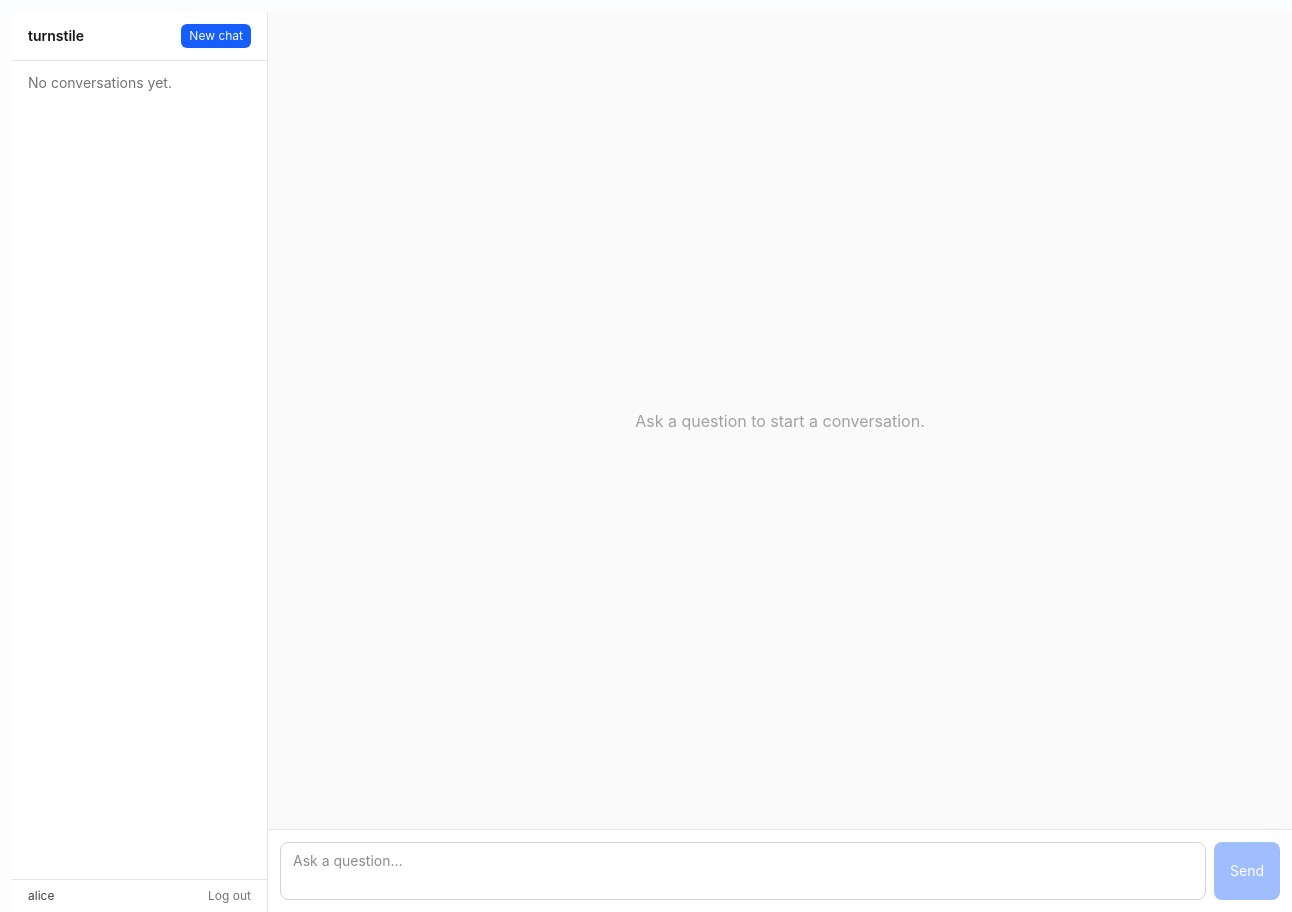
back from the ACS: token captured, principal shown, logout drops it
Check: the text "alice" is shown, box [28,888,54,904]
What coordinates should you click on to do the following:
click the button "Log out"
I would click on:
 (230, 896)
Its box is [208,888,251,904].
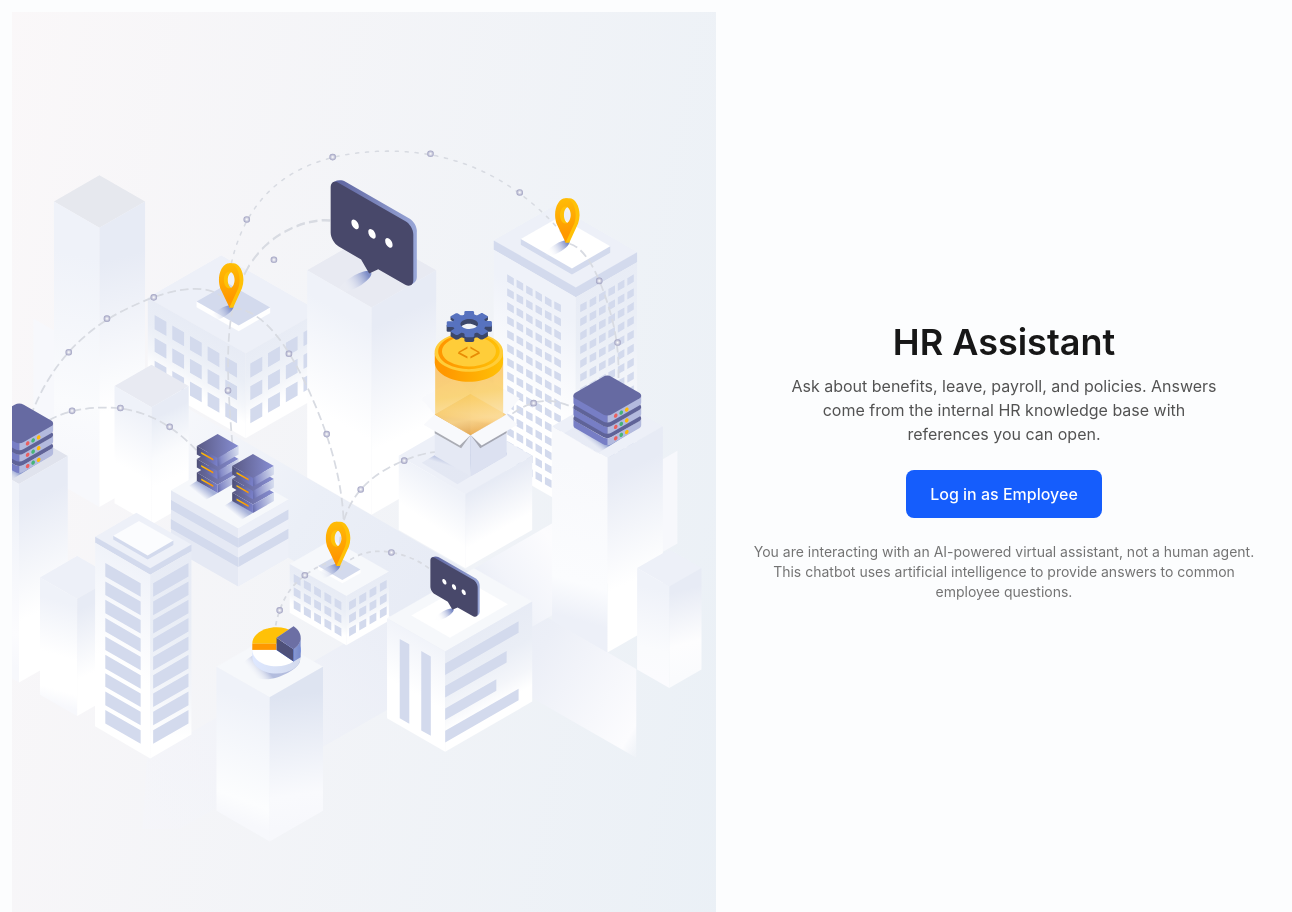
Check: the button "Log in as Employee" is shown, box [906,470,1102,518]
